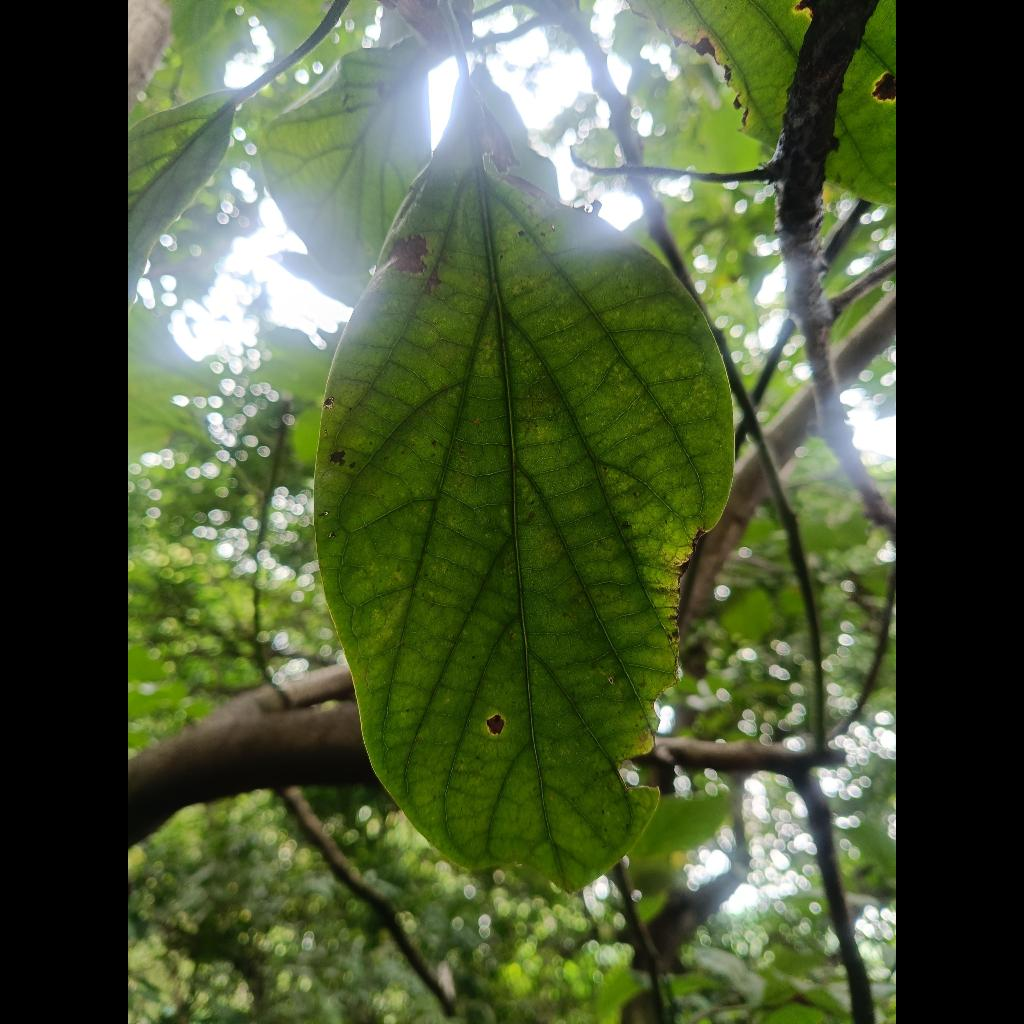antracnosis_hoja: (316, 92, 732, 889)
